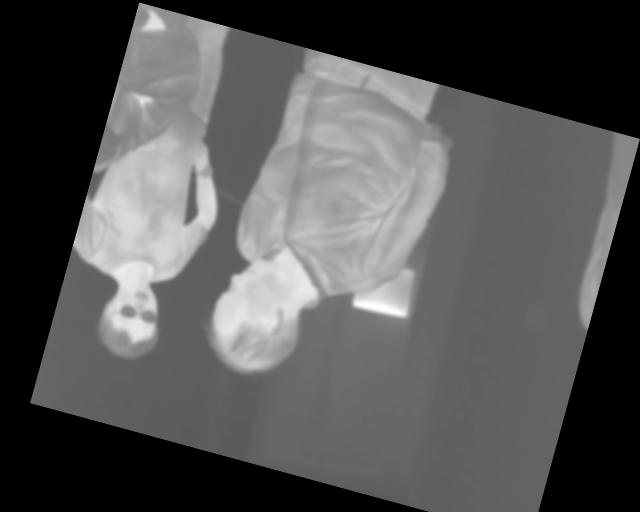face: (193, 248, 316, 387), (89, 274, 172, 367)
